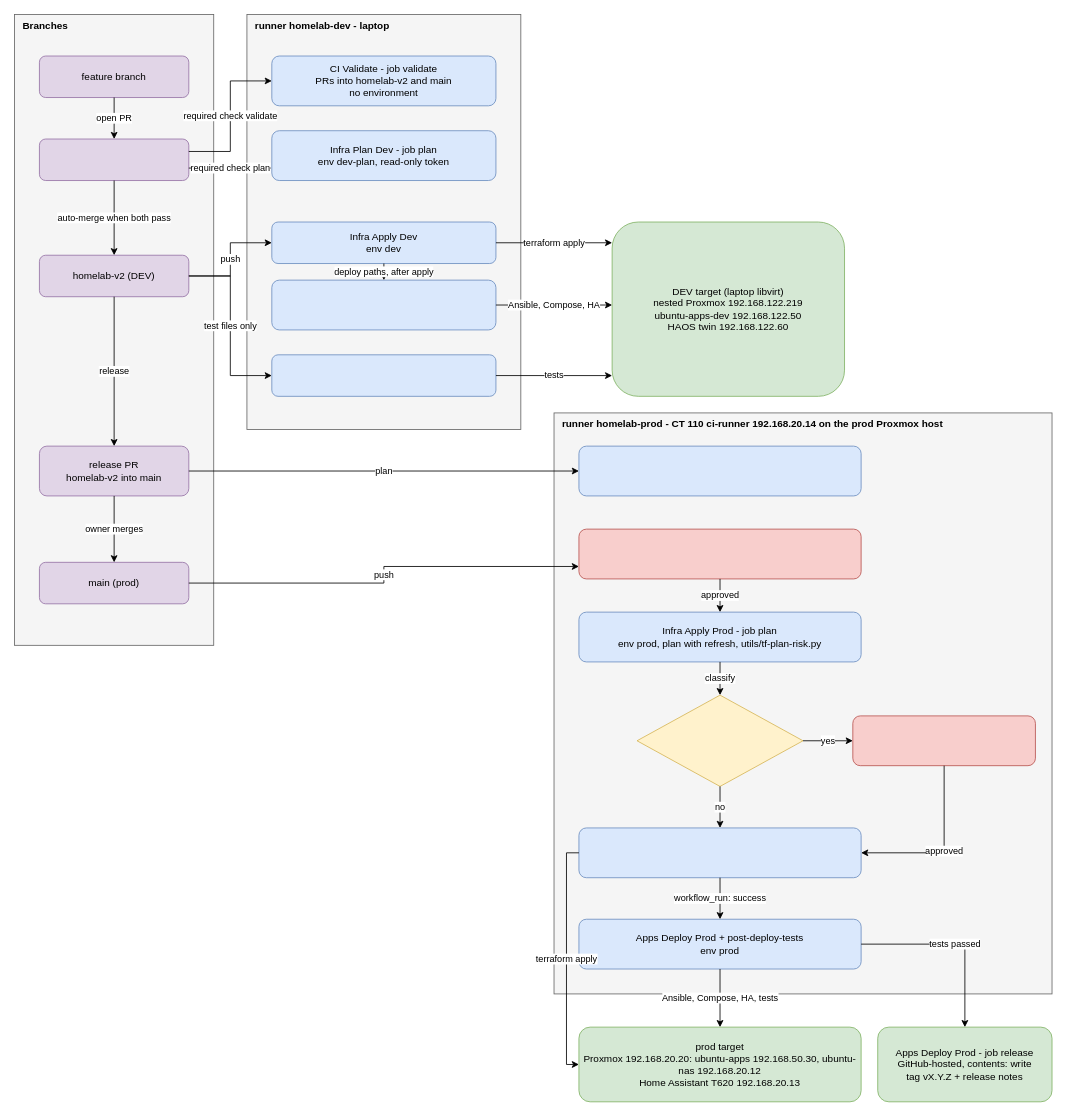
Image size: 1067x1116. Some labels were removed from this diagram. The centre of each missing label's shape, as x and y in pixels:
"Apps Deploy Dev + post-deploy-tests env dev, when deploy paths change" belongs at [383,304].
"Infra Apply Prod - job apply env prod, plans again, applies only the same digest" belongs at [719,852].
"Infra Apply Prod - job approve env prod-approve, owner approves once" belongs at [719,553].
"Infra Apply Prod - job gate env prod-gate, owner approves" belongs at [943,740].
"Infra Plan Prod - job plan env prod-plan, read-only token, -refresh=false" belongs at [719,470].
"PR into homelab-v2" belongs at [114,159].
"risky plan or gate=true?" belongs at [719,740].
"Tests Dev env dev, test files only skipped when this push also deploys" belongs at [383,375].
